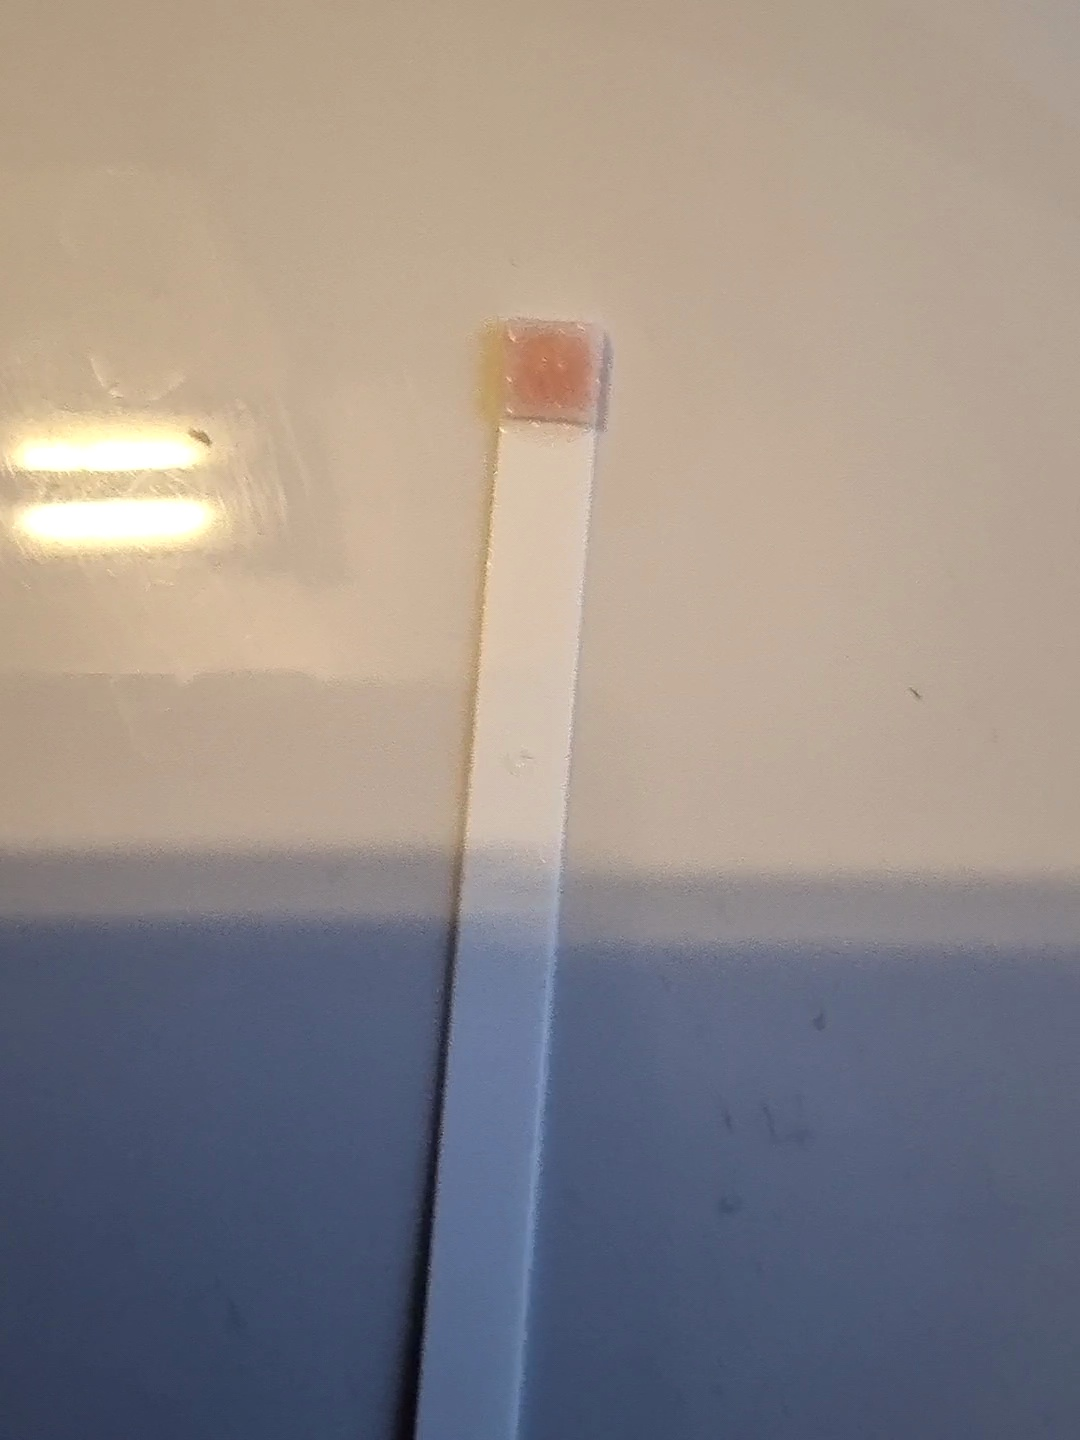keto-tip: (488, 311, 615, 434)
